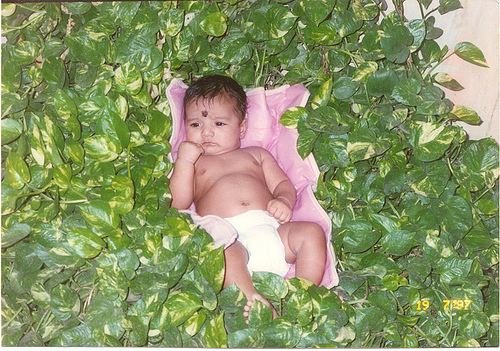without_mask: (183, 93, 250, 158)
